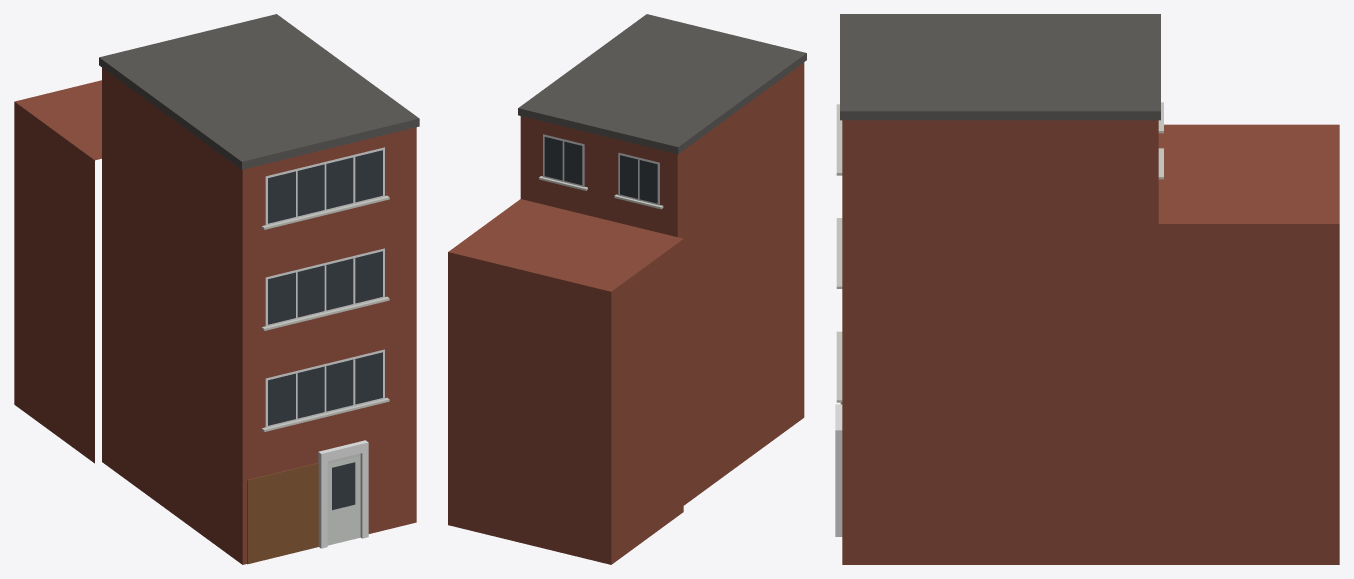
File: nw-os-garage__four__4__flat__long__solid.glb
The picture shows the model from 3 angles, left to right: view 1: azimuth 30°, elevation 25°; view 2: azimuth 150°, elevation 25°; view 3: azimuth 270°, elevation 25°; orthographic projection. The views are drawn at different scales.
Visible parts, largest first — view 1: nw-os-garage__four__4__flat__long__solid; view 2: nw-os-garage__four__4__flat__long__solid; view 3: nw-os-garage__four__4__flat__long__solid.
Boxes of the visible parts, x1,y1,x2,y2 form: nw-os-garage__four__4__flat__long__solid: (14, 14, 419, 564); nw-os-garage__four__4__flat__long__solid: (448, 14, 806, 564); nw-os-garage__four__4__flat__long__solid: (835, 14, 1339, 564).
Size of the model in its own units: 5.25 by 11.09 by 11.15.
